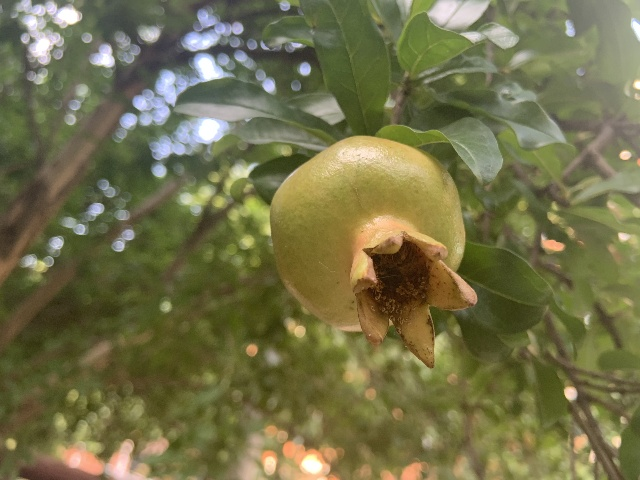mid-growth: (269, 134, 479, 370)
